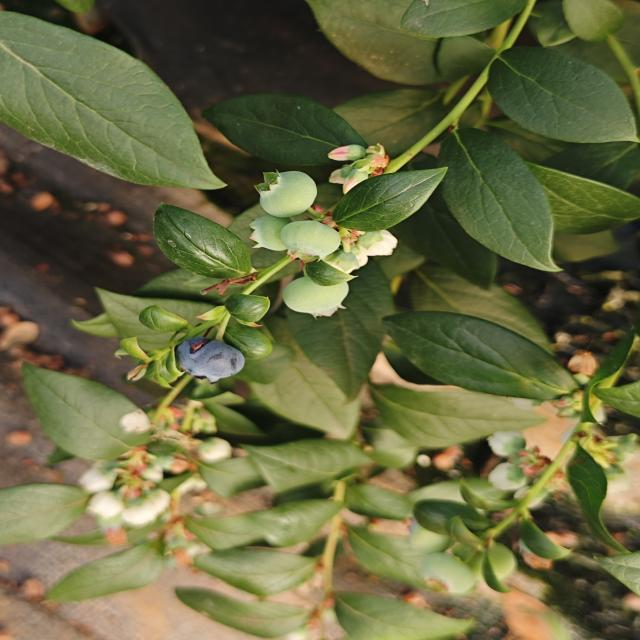ripe: (170, 333, 251, 386)
